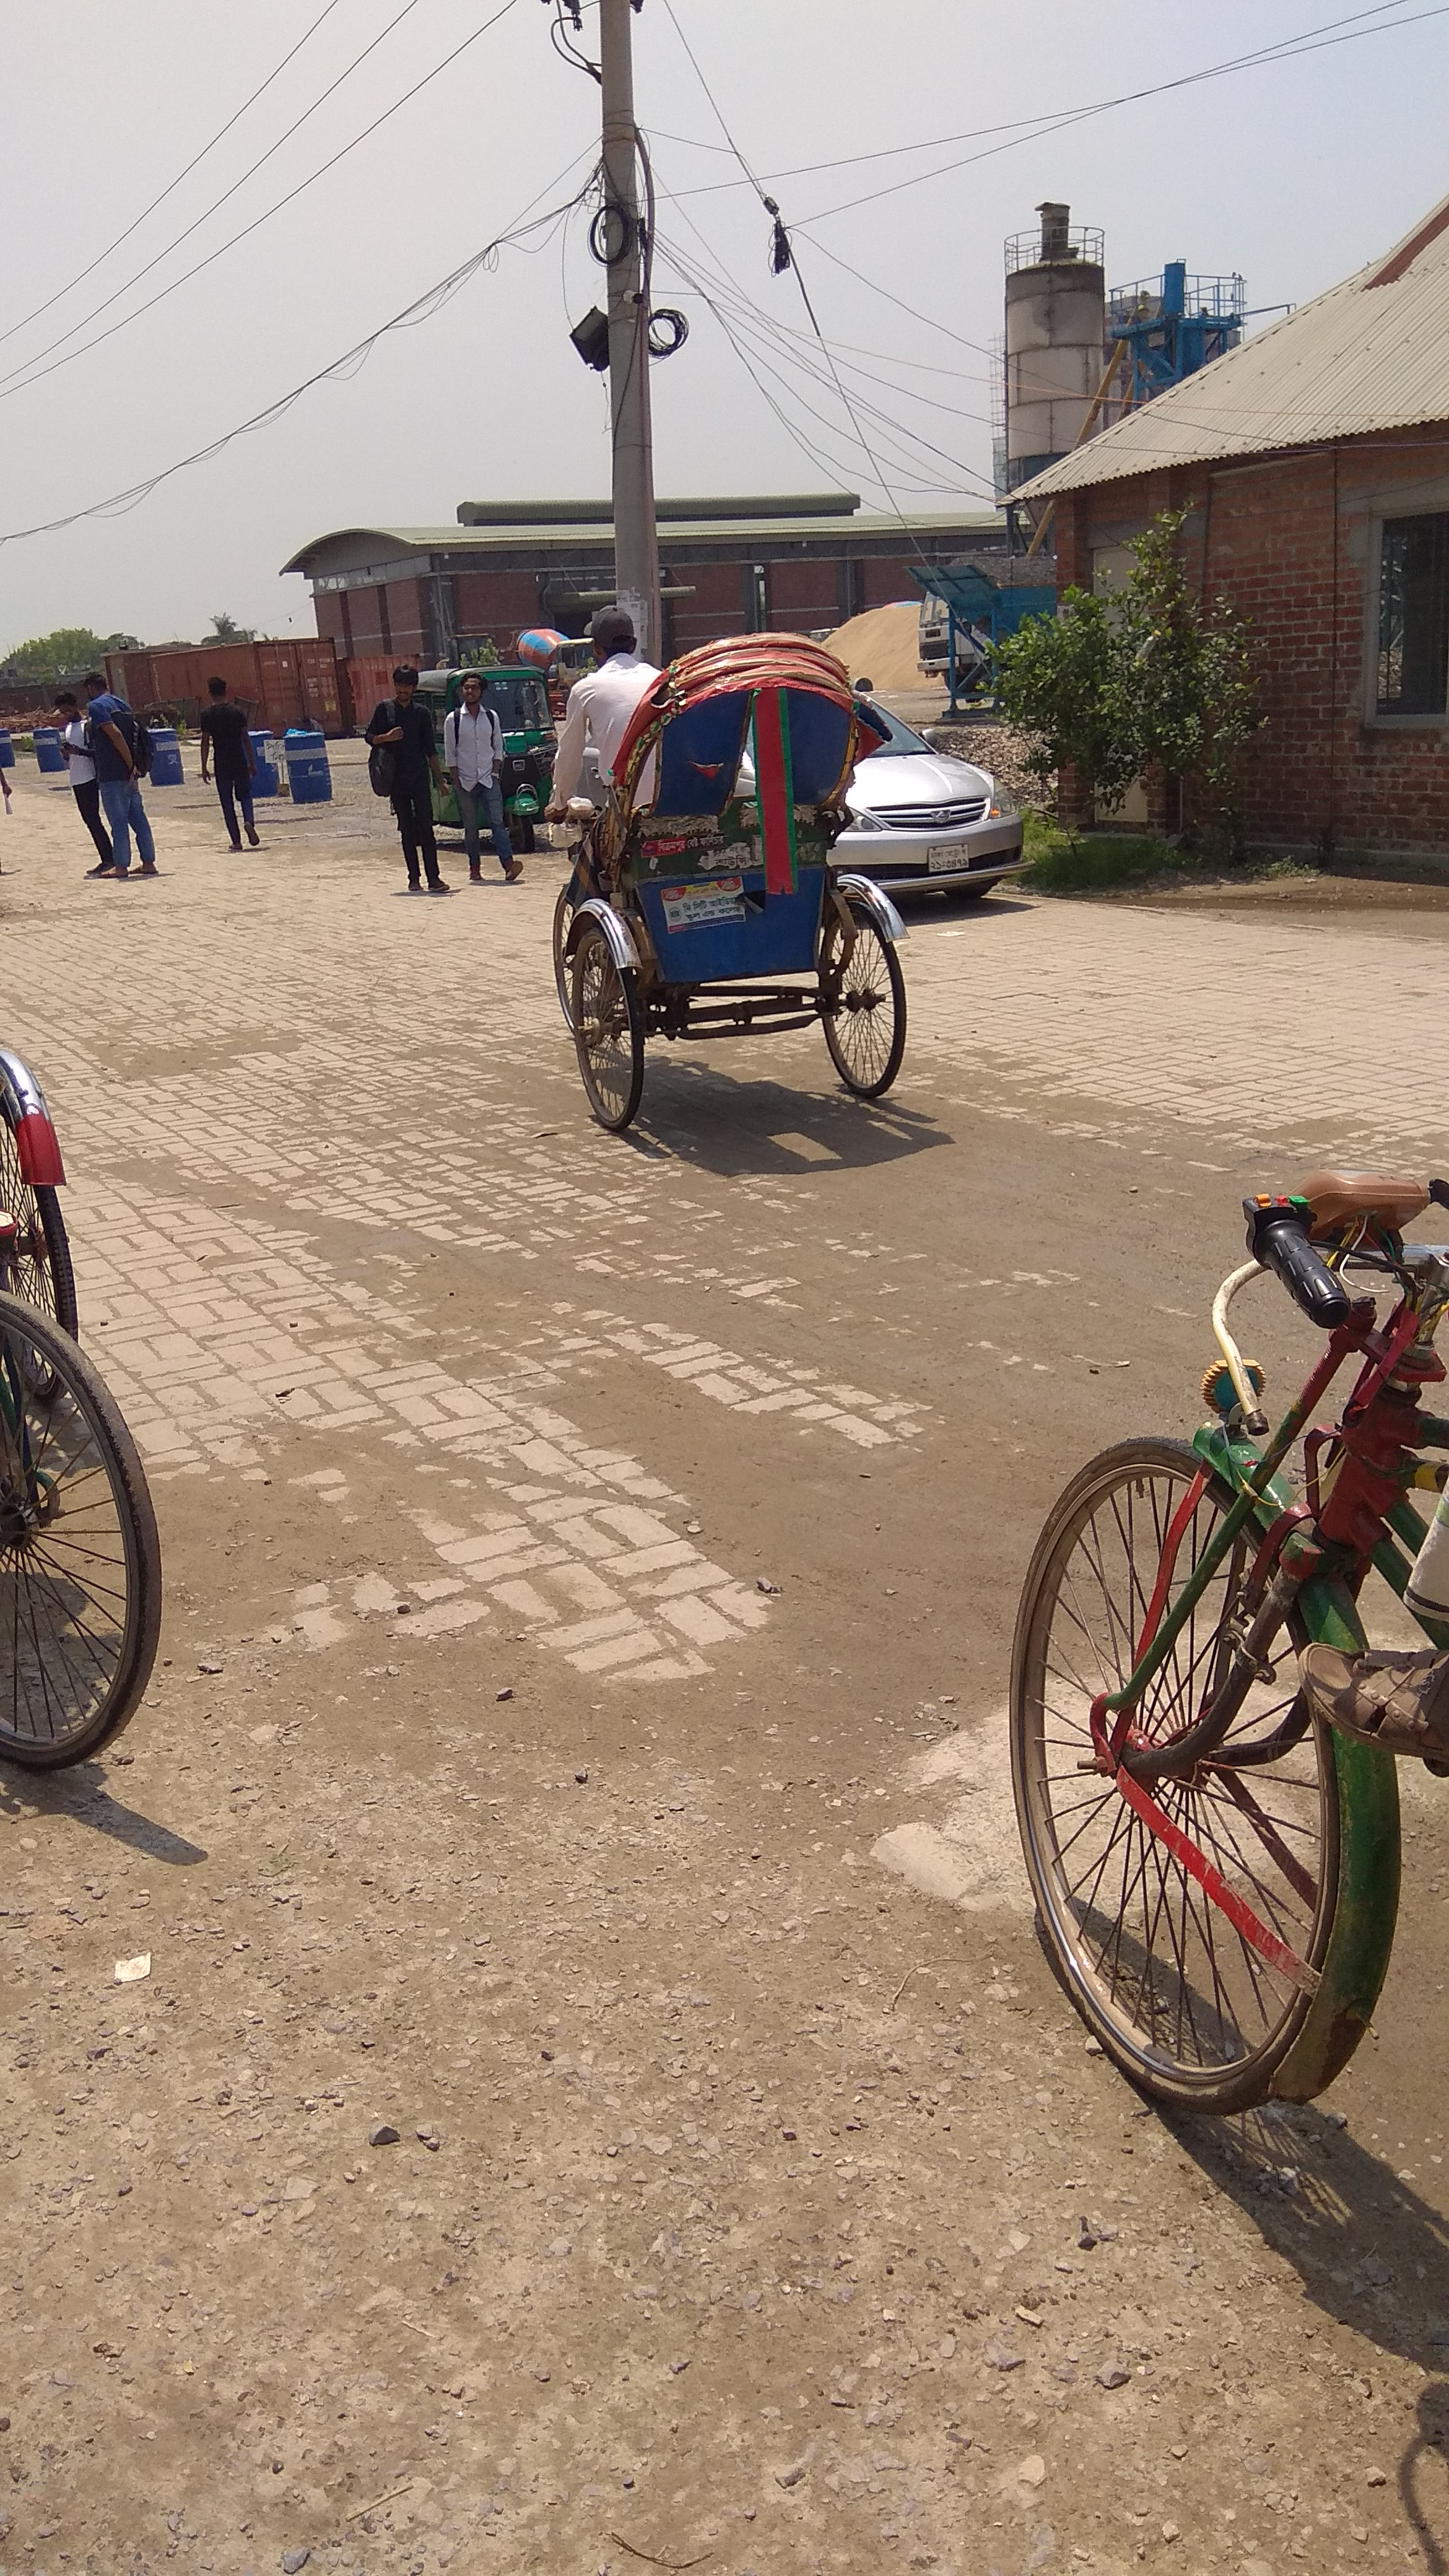Rickshaw: (996, 1162, 1440, 2118), (557, 628, 927, 1115), (4, 1001, 191, 1783)
